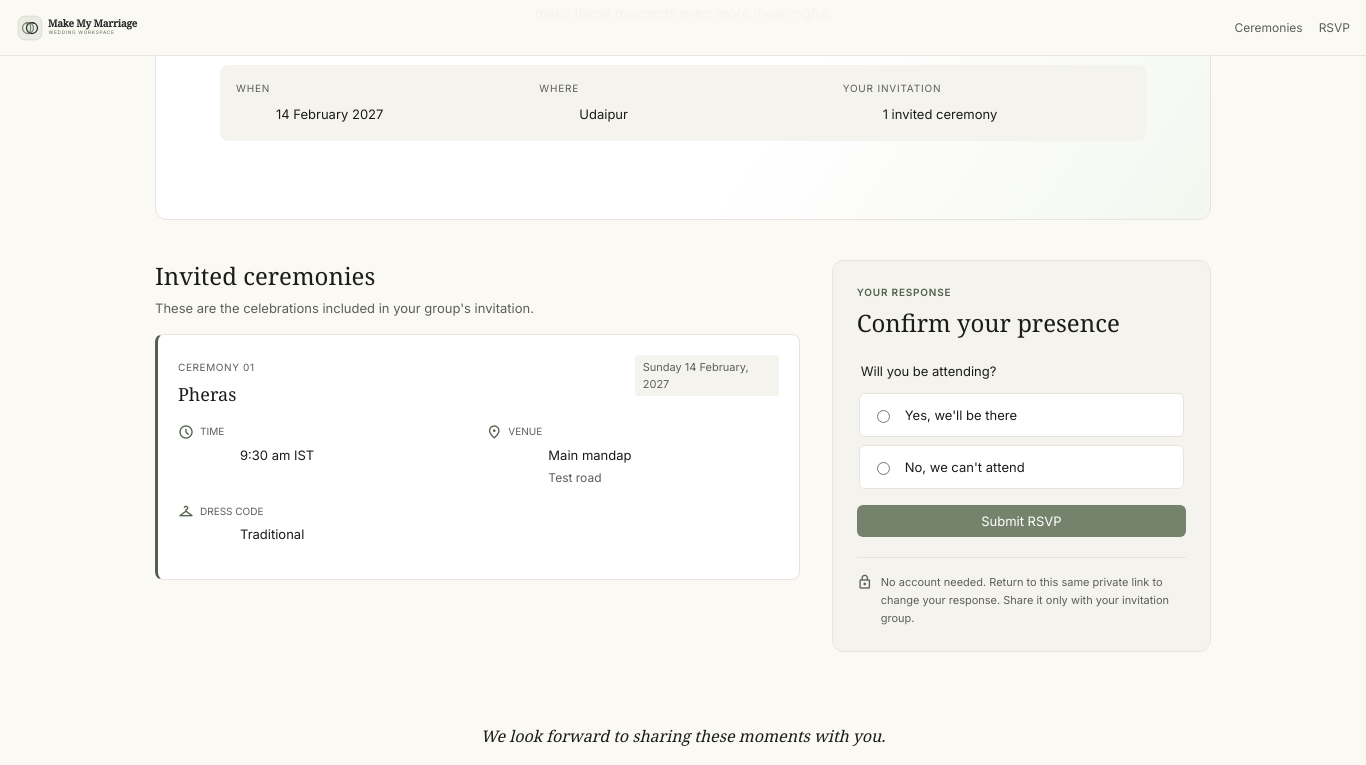
public invitation and RSVP › preserves draft choices after HTTP 400 and refreshes changed limits
This screenshot has width=1366, height=765.
(page scrolled)
Click the radio button labelled "Yes, we'll be there". click: (883, 417)
box: [877, 410, 890, 423]
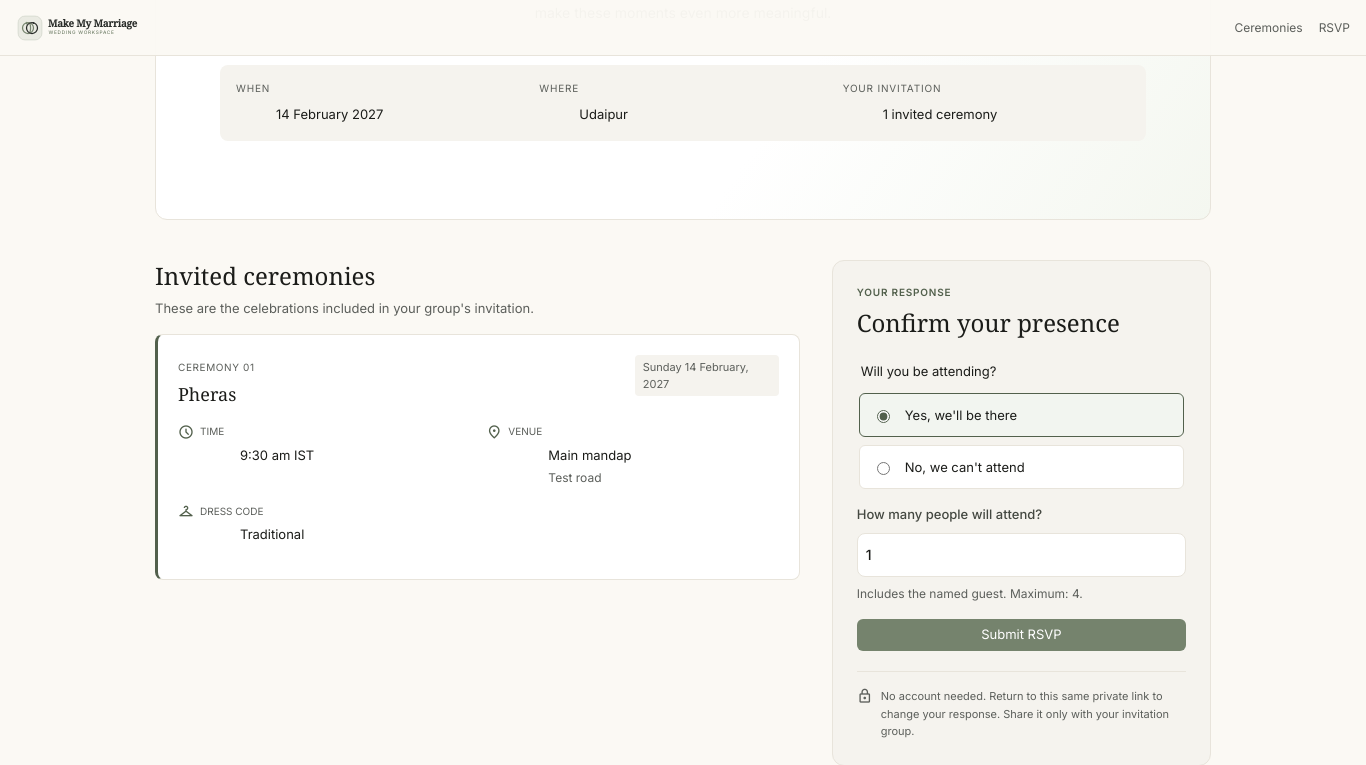
Replace the text in the number field with "3". click: (1021, 555)
box: [857, 533, 1186, 577]
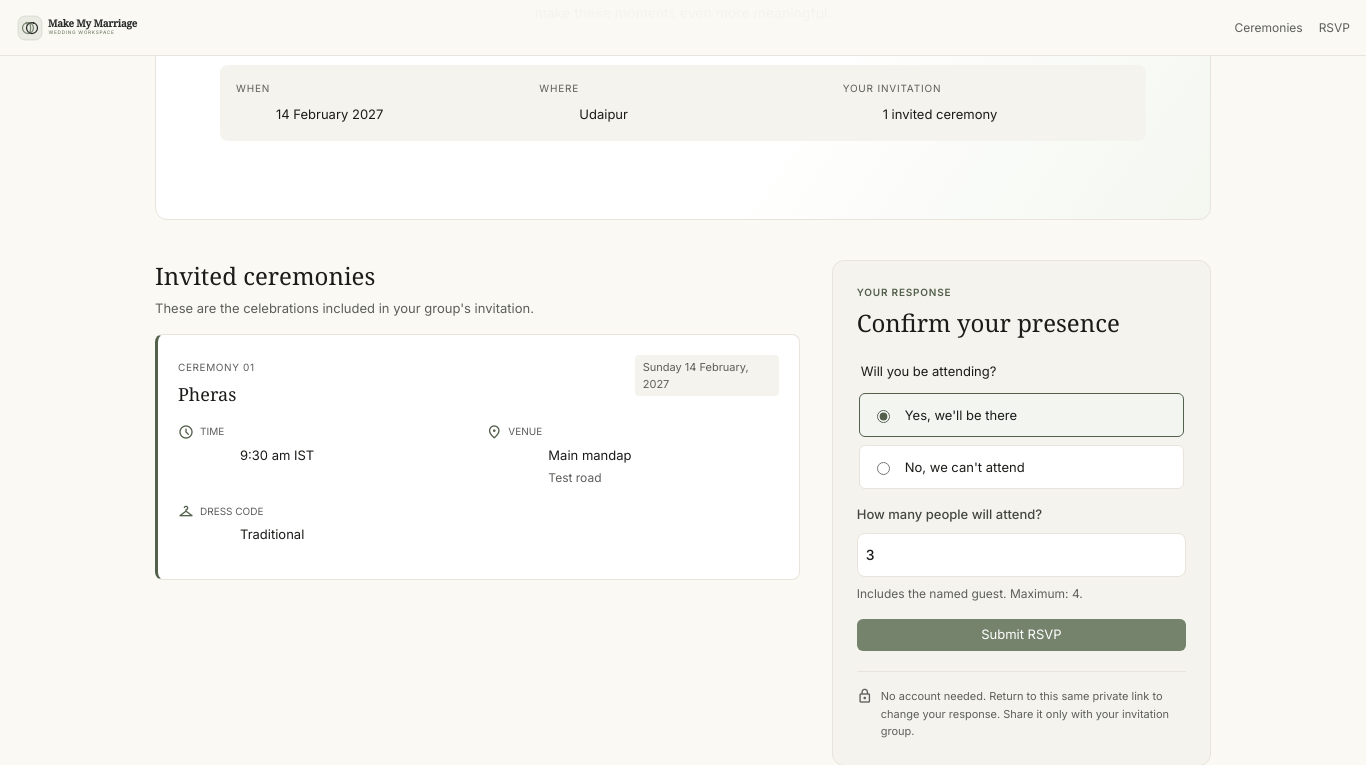
Click the button "Submit RSVP". click: (1021, 635)
box: [857, 619, 1186, 651]
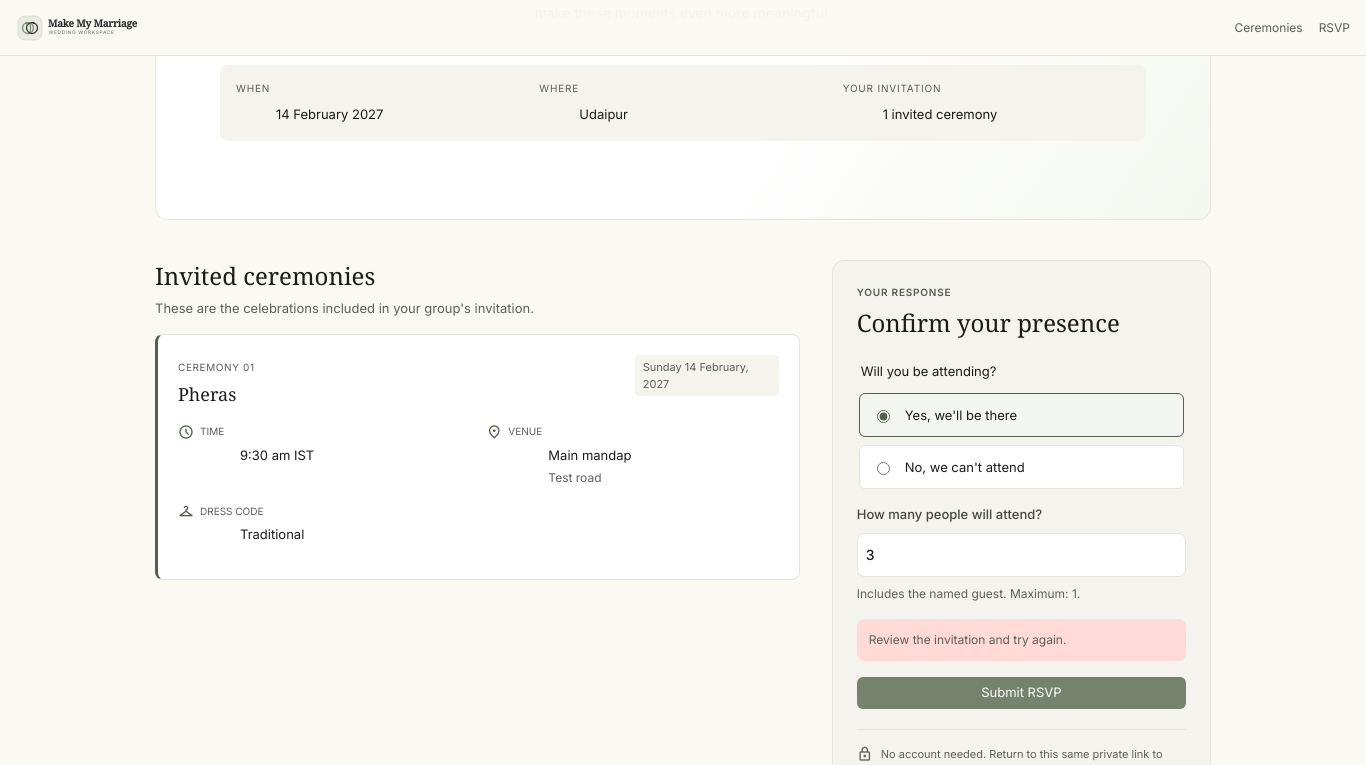
Expected: the message "Review the invitation and try again." is shown, [857, 619, 1186, 661]
Expected: the text "Includes the named guest. Maximum: 1." is shown, [857, 586, 1080, 601]
